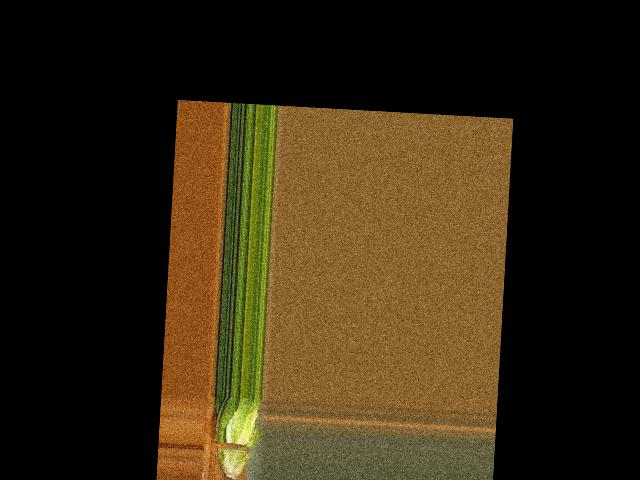lettuce: (207, 397, 262, 479)
